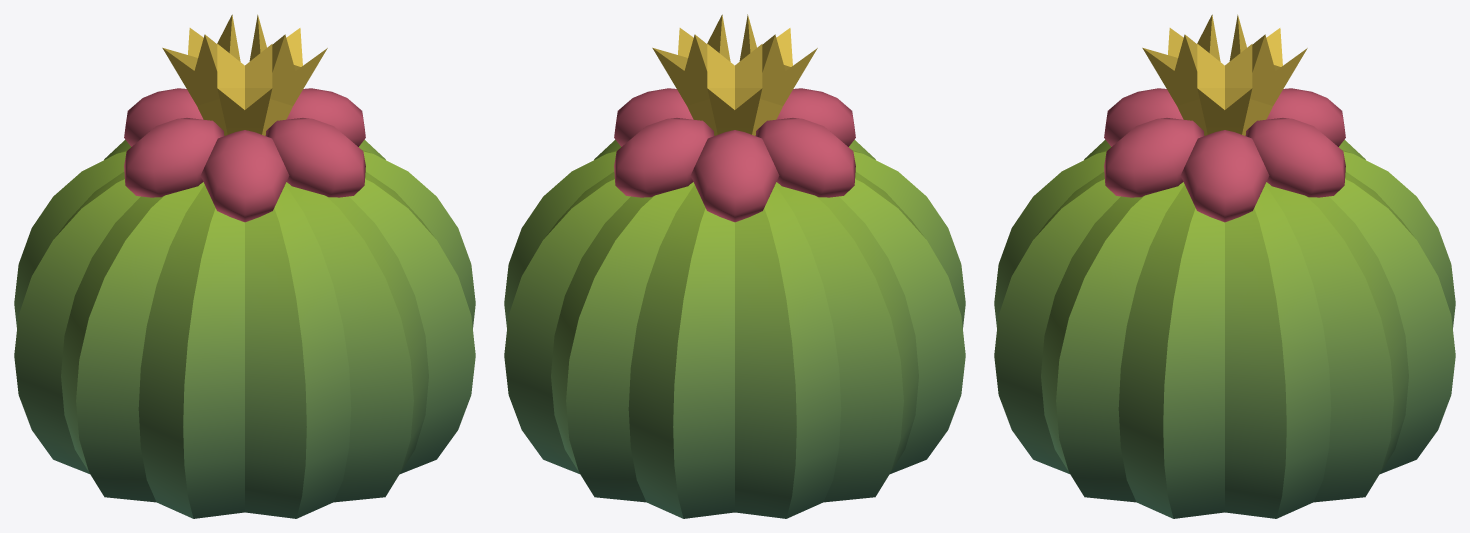
3 views of the same model, side by side, from view 1: azimuth 30°, elevation 25°; view 2: azimuth 150°, elevation 25°; view 3: azimuth 270°, elevation 25° (orthographic).
Visible parts, largest first — view 1: LOD 0_16096745429454471203_4f8908b5be8aa20408ffdc0ad114008d; view 2: LOD 0_16096745429454471203_4f8908b5be8aa20408ffdc0ad114008d; view 3: LOD 0_16096745429454471203_4f8908b5be8aa20408ffdc0ad114008d.
Part boxes in pixels (x1,y1,x2,y2): LOD 0_16096745429454471203_4f8908b5be8aa20408ffdc0ad114008d: [14, 14, 475, 518]; LOD 0_16096745429454471203_4f8908b5be8aa20408ffdc0ad114008d: [504, 14, 965, 518]; LOD 0_16096745429454471203_4f8908b5be8aa20408ffdc0ad114008d: [994, 14, 1455, 518].
Bounding box in the file's own units: 1.05 × 1.02 × 1.05.
